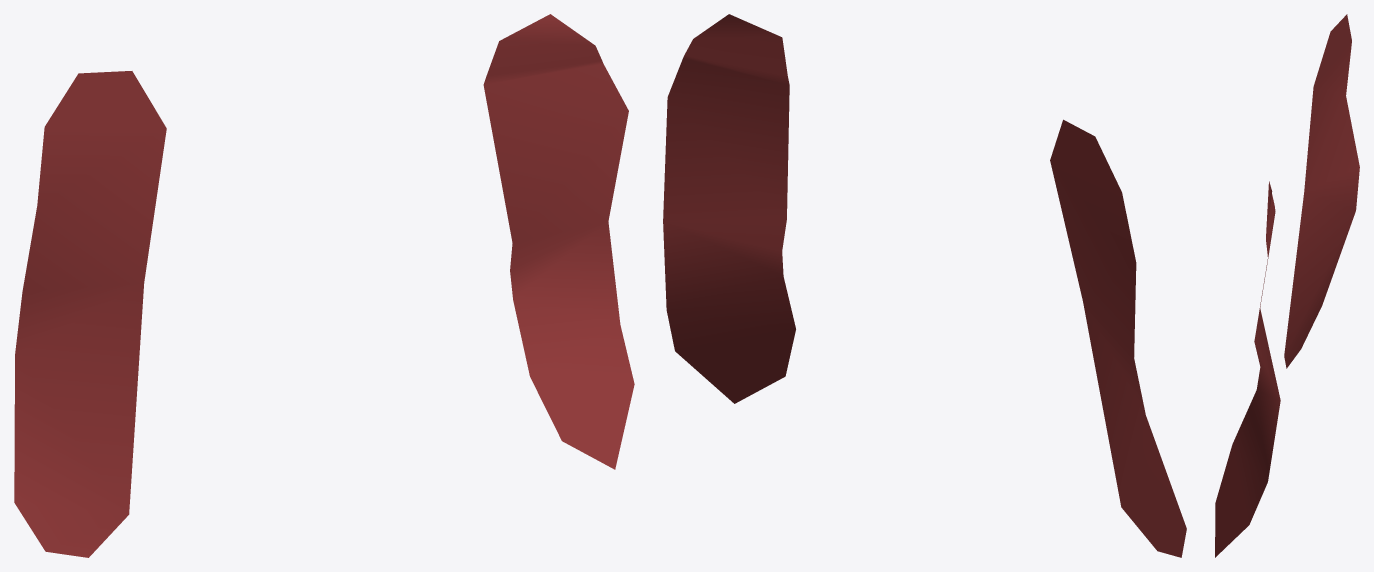
File: flexor-digitorum-superficialis-e2r.glb
3 renders of one model, left to right at view 1: azimuth 30°, elevation 25°; view 2: azimuth 150°, elevation 25°; view 3: azimuth 270°, elevation 25°, orthographic. The views are drawn at different scales.
Visible parts, largest first — view 1: Flexor digitorum superficialis.e2r; view 2: Flexor digitorum superficialis.e2r; view 3: Flexor digitorum superficialis.e2r.
Boxes of the visible parts, box(x1,y1,x2,y2) form: Flexor digitorum superficialis.e2r: box(14, 14, 634, 557); Flexor digitorum superficialis.e2r: box(663, 14, 1186, 557); Flexor digitorum superficialis.e2r: box(1215, 14, 1359, 557).
Bounding box in the file's own units: 0.00856 × 0.00639 × 0.0023.
